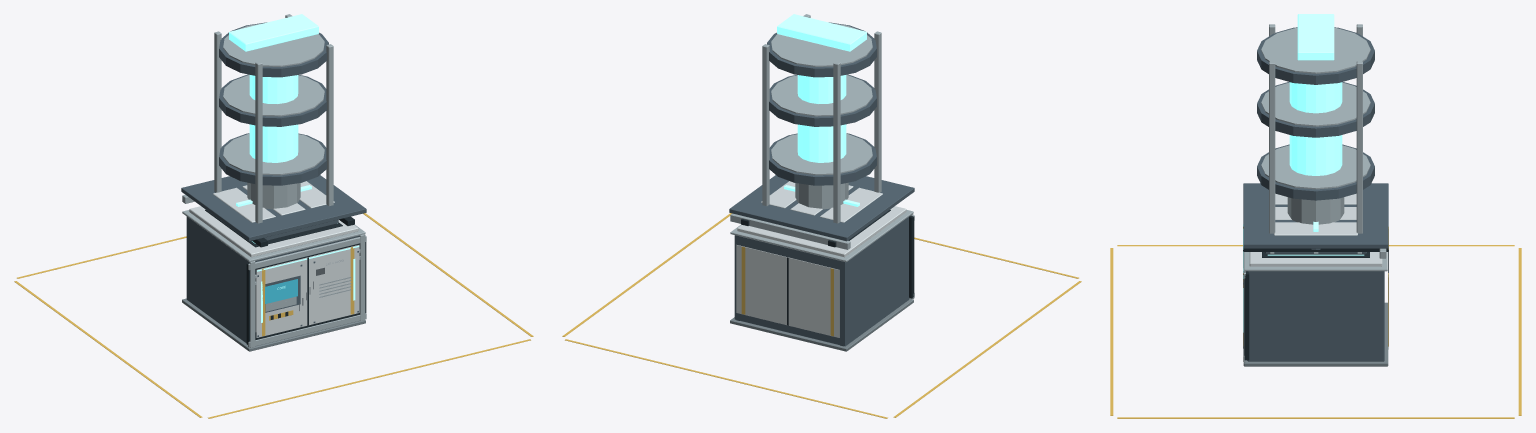
Rendered from core-kit.glb.
The picture shows the model from 3 angles, left to right: view 1: azimuth 30°, elevation 25°; view 2: azimuth 150°, elevation 25°; view 3: azimuth 270°, elevation 25°; orthographic projection. The views are drawn at different scales.
Visible parts, largest first — view 1: Door panel inset.003, Ceiling cassette.001, Structural cassette.001, Luminous containment column.001, Inset security door body.001, Reactor collar inlay.006, Reactor collar inlay.005, Reactor collar inlay.007, Titan arrival indicator.001, Service roof.001, Reactor containment collar.006, Reactor containment collar.005 (+18 smaller); view 2: Door panel inset.002, Inset security door body.001, Structural cassette.001, Ceiling cassette.001, Luminous containment column.001, Reactor collar inlay.006, Reactor collar inlay.005, Reactor collar inlay.007, Titan arrival indicator.001, Service roof.001, Reactor containment collar.006, Reactor containment collar.005 (+14 smaller); view 3: Structural cassette.001, Inset security door body.001, Ceiling cassette.001, Luminous containment column.001, Reactor collar inlay.007, Reactor collar inlay.006, Reactor collar inlay.005, Titan arrival indicator.001, Reactor containment collar.007, Reactor containment collar.005, Reactor containment collar.006, Coolant pressure vessel.001 (+13 smaller).
Boxes of the visible parts, x1,y1,x2,y2 form: Door panel inset.003: (256, 245, 359, 337); Ceiling cassette.001: (181, 175, 366, 241); Structural cassette.001: (187, 235, 317, 342); Luminous containment column.001: (249, 75, 298, 162); Inset security door body.001: (186, 216, 359, 343); Reactor collar inlay.006: (223, 75, 324, 116); Reactor collar inlay.005: (223, 133, 324, 175); Reactor collar inlay.007: (223, 23, 324, 66); Titan arrival indicator.001: (229, 14, 318, 51); Service roof.001: (189, 206, 358, 257); Reactor containment collar.006: (219, 74, 326, 126); Reactor containment collar.005: (219, 133, 326, 185); Door panel inset.002: (736, 245, 839, 337); Inset security door body.001: (734, 217, 909, 346); Structural cassette.001: (736, 227, 908, 344); Ceiling cassette.001: (729, 175, 914, 241); Luminous containment column.001: (797, 75, 846, 162); Reactor collar inlay.006: (771, 75, 872, 116); Reactor collar inlay.005: (771, 133, 872, 175); Reactor collar inlay.007: (771, 23, 872, 66); Titan arrival indicator.001: (777, 14, 866, 51); Service roof.001: (737, 206, 906, 257); Reactor containment collar.006: (769, 74, 876, 126); Reactor containment collar.005: (769, 133, 876, 185); Structural cassette.001: (1248, 271, 1383, 347); Inset security door body.001: (1247, 271, 1384, 361); Ceiling cassette.001: (1243, 183, 1388, 248); Luminous containment column.001: (1289, 82, 1342, 175); Reactor collar inlay.007: (1261, 28, 1370, 73); Reactor collar inlay.006: (1261, 82, 1370, 126); Reactor collar inlay.005: (1261, 145, 1370, 189); Titan arrival indicator.001: (1297, 14, 1334, 60); Reactor containment collar.007: (1257, 27, 1374, 84); Reactor containment collar.005: (1257, 144, 1374, 200); Reactor containment collar.006: (1257, 82, 1374, 137); Coolant pressure vessel.001: (1287, 197, 1344, 224).
Size of the model in its own units: 11.28 by 9.18 by 11.28.
